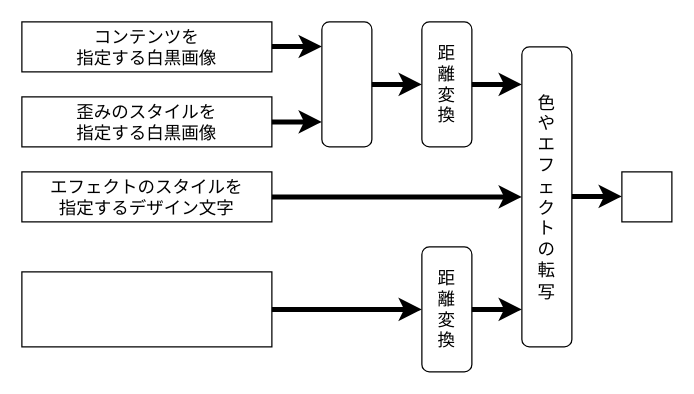
Image size: 694x394. Some labels were removed from this diagram. Each missing label, with the centre of its shape:
"エフェクトのスタイルを 指定するデザイン文字の グリフを示す白黒画像" belongs at point 146,309.
"出 力" belongs at point 646,196.
"歪 み の 転 写" belongs at point 346,84.
